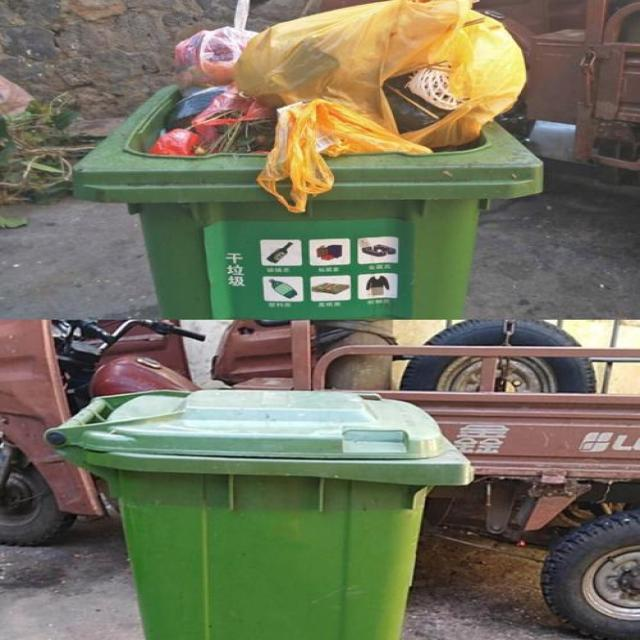garbage_bin: (42, 387, 471, 639)
overflow: (72, 0, 540, 318)
